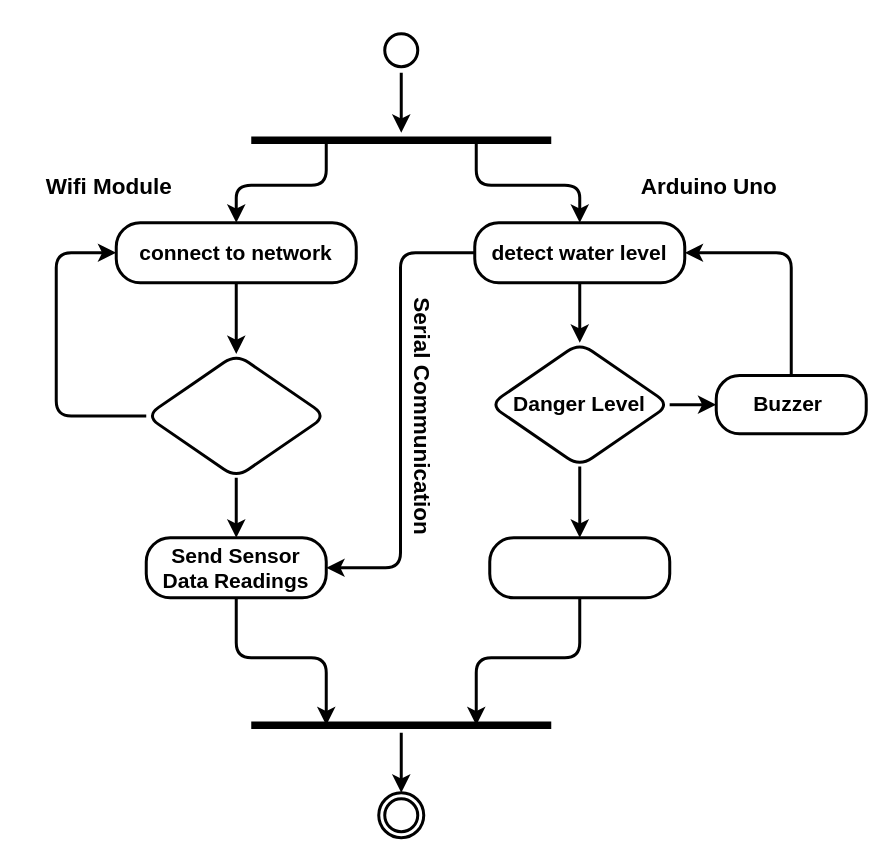
The diagram is 893 pixels wide and 864 high, and some of its shapes have lost their labels. Here are the shapes that lost their labels. From the top down, the box of each, then its label:
(144, 352, 327, 478): Disconnected
(488, 536, 670, 598): Output LED indicator
